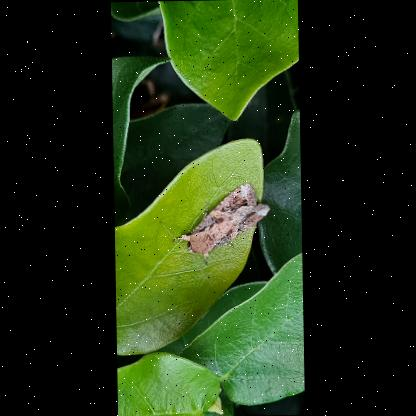Fall Armyworm Moth: (170, 180, 273, 268)
